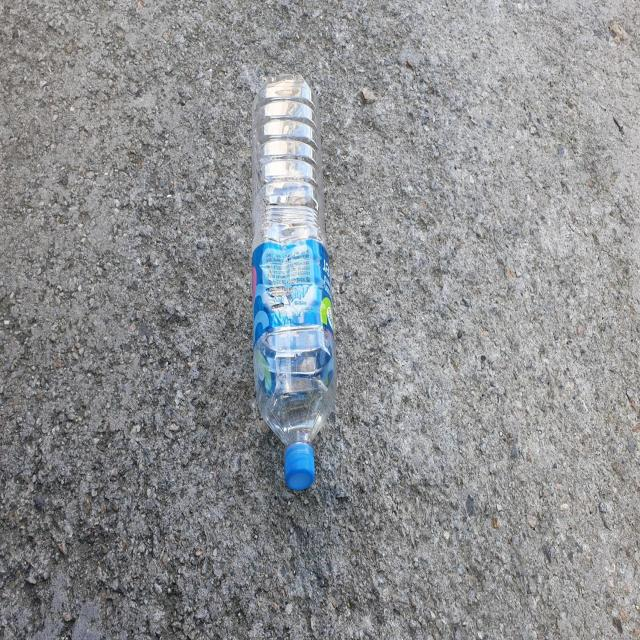plastic: (252, 75, 337, 490)
